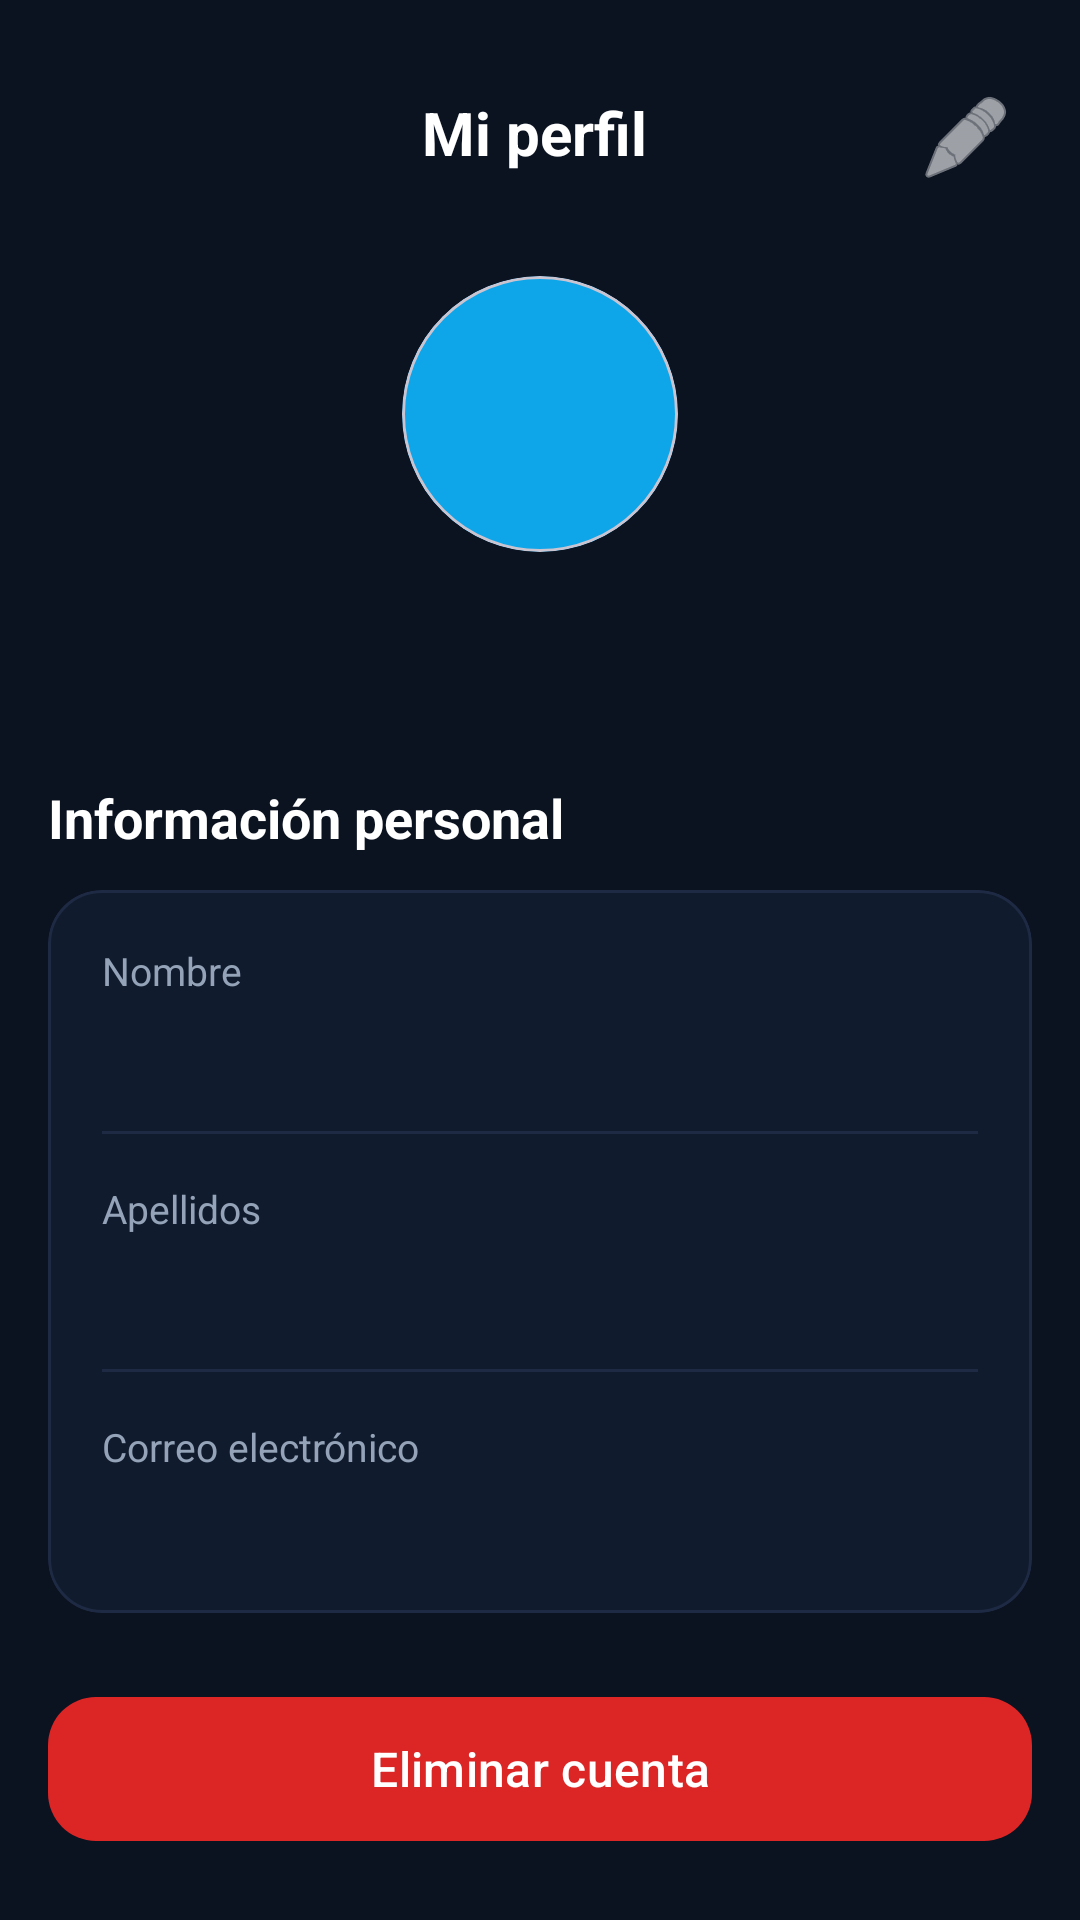

Icon bounding boxes for this 1080×1920 phone screenshot, format box=[x1, y1, x2, y2]:
Editar perfil: box=[925, 97, 1006, 178]
